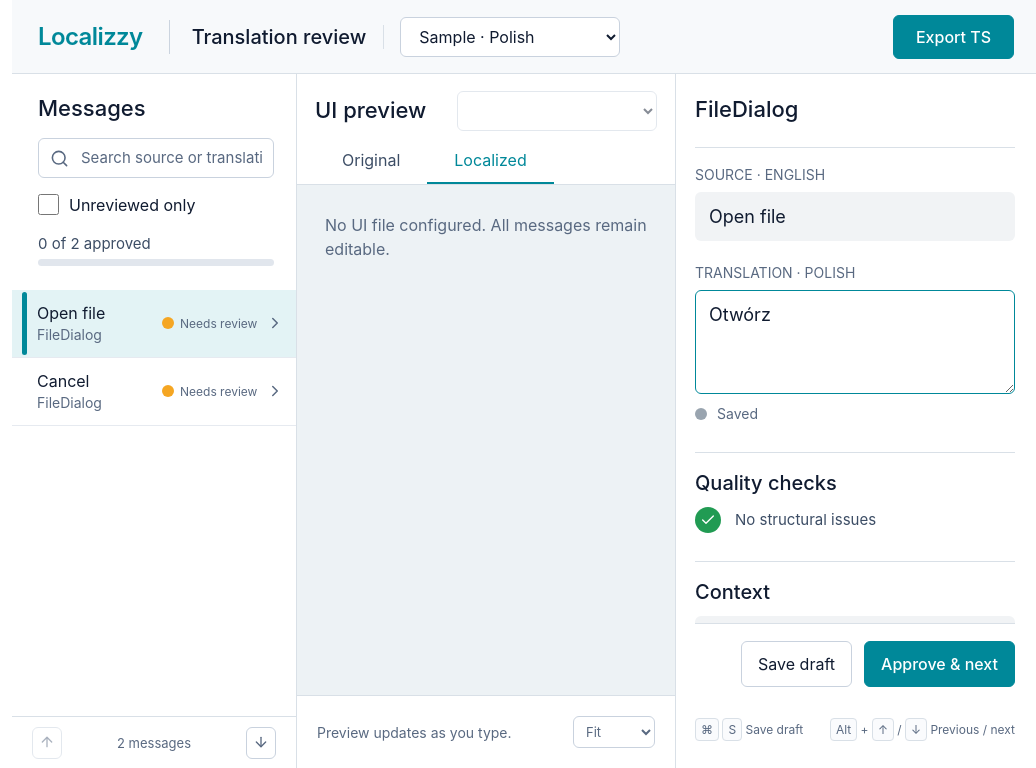
it: export of an unsaved draft explains how to save first
Step 1. Replace the text in the text box named "Translation · Polish" with "Nowy" → {"x": 855, "y": 342}, box left=695, top=290, right=1015, bottom=394
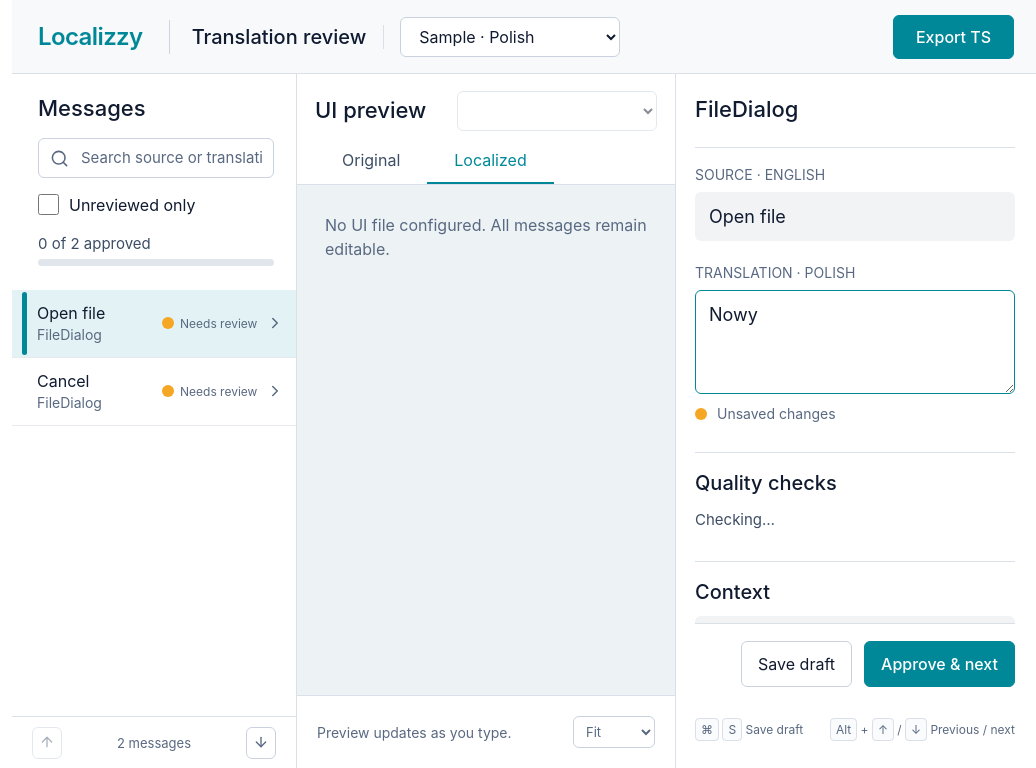
Step 2. Click the button "Export TS" → {"x": 954, "y": 36}, box left=893, top=14, right=1014, bottom=58
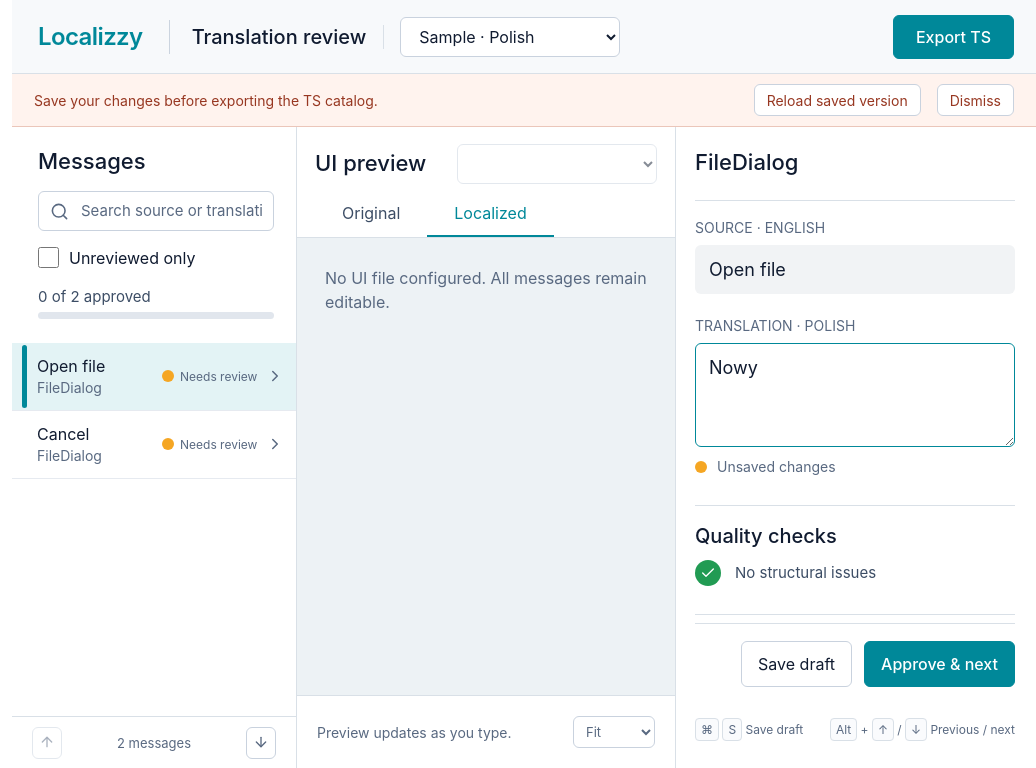
Check: the 1st message shows "Save your changes before exporting", box left=34, top=92, right=378, bottom=108
